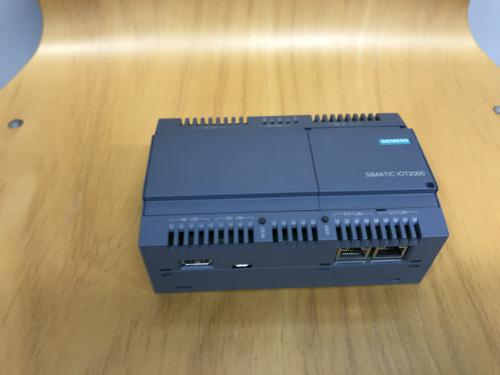device: (137, 112, 450, 293)
